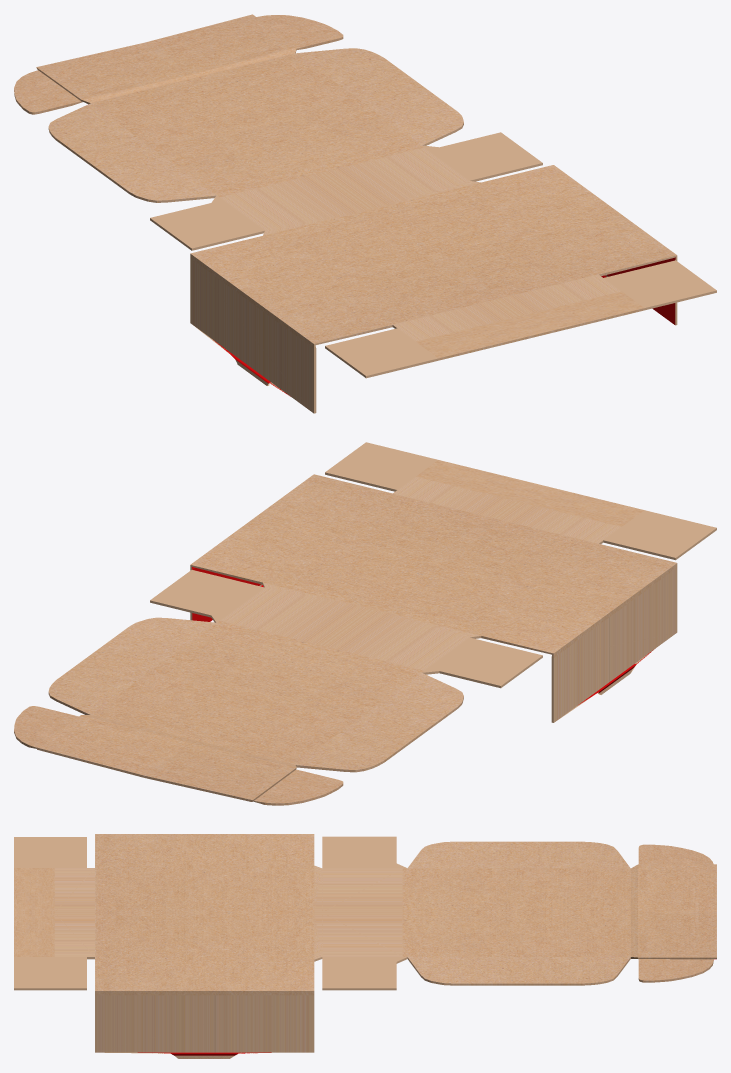
Rendered from caja1.gltf.
3 views of the same model, one above another, from view 1: azimuth 30°, elevation 25°; view 2: azimuth 150°, elevation 25°; view 3: azimuth 270°, elevation 25° (orthographic). The views are drawn at different scales.
Parts seen in each view (by area): view 1: Plane; view 2: Plane; view 3: Plane.
Boxes of the visible parts, x1=… form: Plane: x1=14, y1=14, x2=716, y2=413; Plane: x1=14, y1=442, x2=716, y2=805; Plane: x1=14, y1=834, x2=716, y2=1058.
Bounding box in the file's own units: 2.05 × 0.4179 × 3.84.
3 materials, 2 textured.
